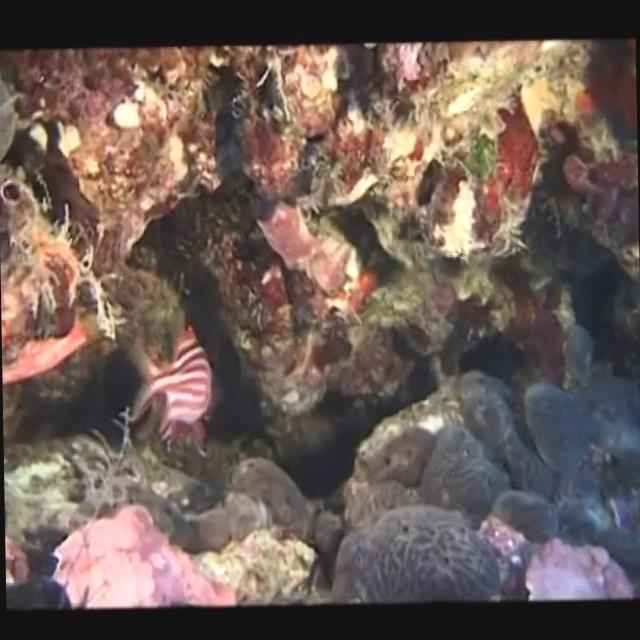Asker Baligi: (120, 312, 216, 458)
